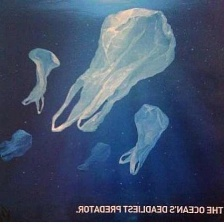plastic_bag: (50, 5, 178, 135), (118, 102, 172, 177), (16, 41, 63, 116), (75, 139, 114, 174), (0, 125, 35, 162)
